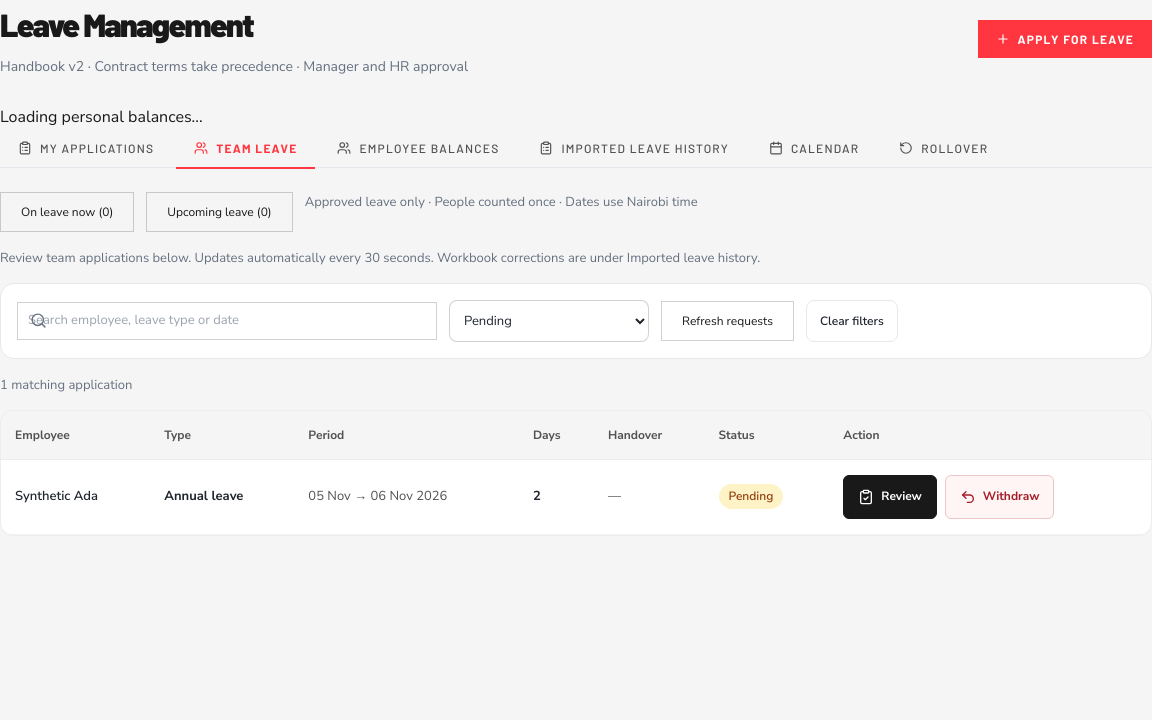
Test: HR queue appears without waiting for personal metadata or balances
The width and height of the screenshot is (1152, 720).
Check: the element with test id "team-leave" is shown, box x1=0 y1=410 x2=1151 y2=536
Check: the row with test id "leave-request" shows "Synthetic Ada", box x1=15 y1=487 x2=98 y2=505
Click the button "Review": point(890, 497) x1=843 y1=475 x2=937 y2=519
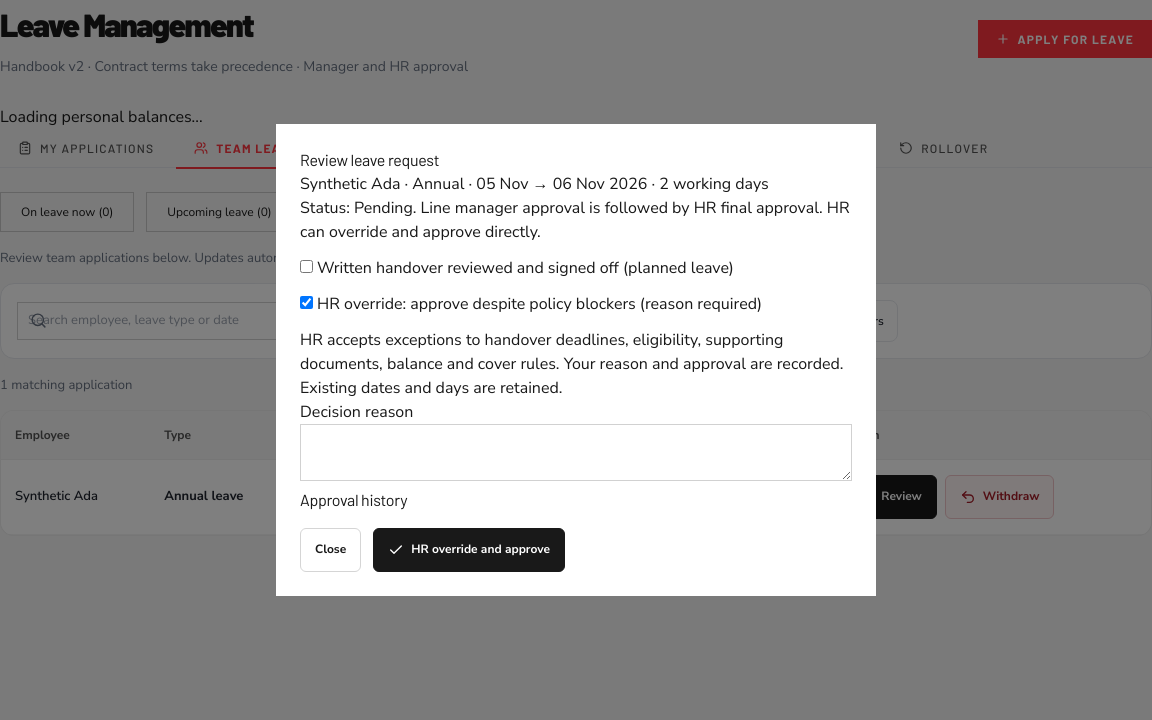
Check: the dialog is shown
